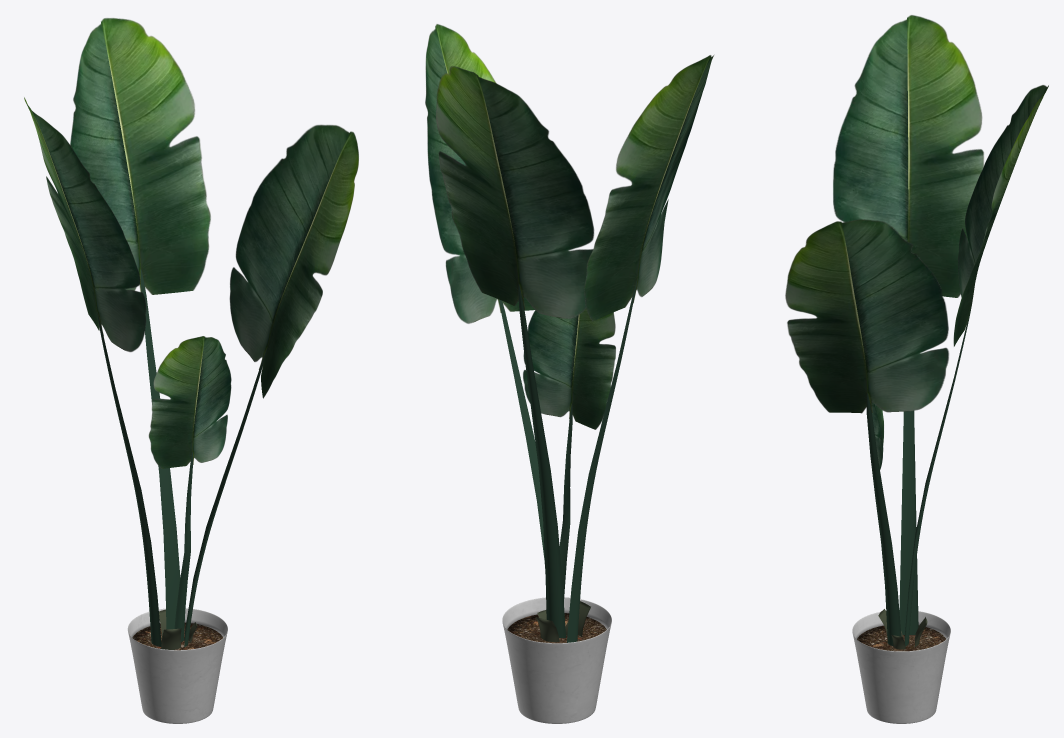
Rendered from paradise.glb.
3 renders of one model, left to right at view 1: azimuth 30°, elevation 25°; view 2: azimuth 150°, elevation 25°; view 3: azimuth 270°, elevation 25°, orthographic. The views are drawn at different scales.
Parts seen in each view (by area): view 1: Cylinder_Material.008_0; view 2: Cylinder_Material.008_0; view 3: Cylinder_Material.008_0.
Part boxes in pixels (box(x1,y1,x2,y2)): Cylinder_Material.008_0: box(24, 18, 358, 723); Cylinder_Material.008_0: box(425, 24, 713, 723); Cylinder_Material.008_0: box(785, 15, 1048, 723).
Size of the model in its own units: 0.4749 by 1 by 0.4256.
Materials: 5 (3 with a texture image).
